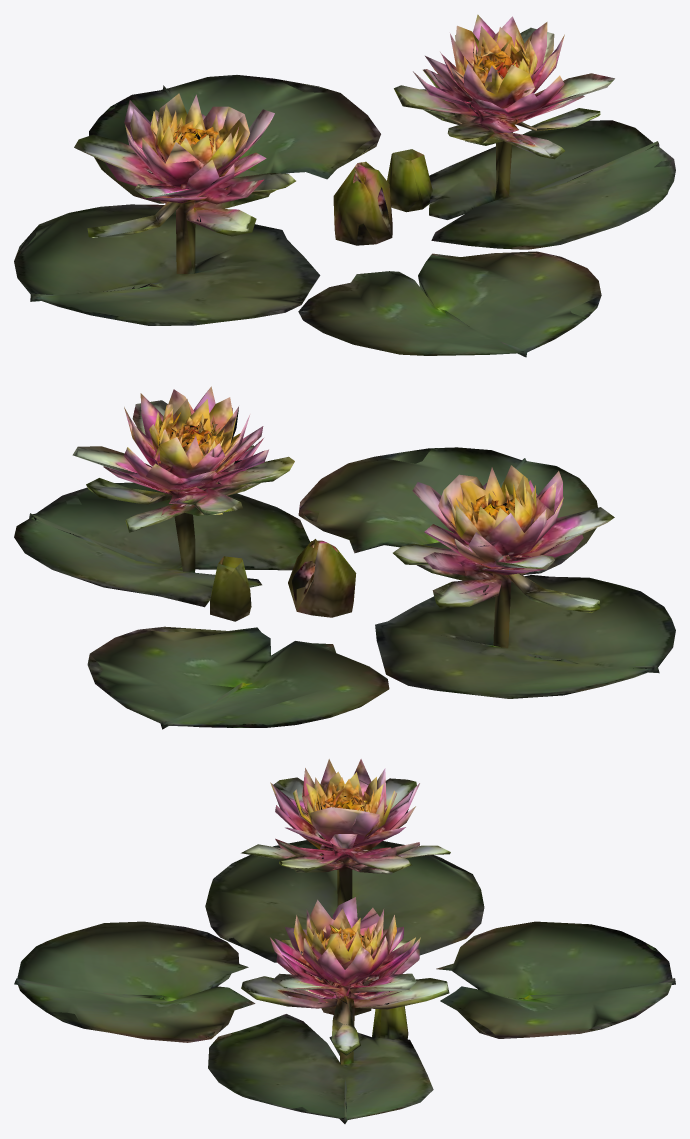
Rendered from plant_lily_a.glb.
3 views of the same model, one above another, from view 1: azimuth 30°, elevation 25°; view 2: azimuth 150°, elevation 25°; view 3: azimuth 270°, elevation 25° (orthographic). The views are drawn at different scales.
Visible parts, largest first — view 1: lo; view 2: lo; view 3: lo.
Part boxes in pixels (x1,y1,x2,y2): lo: (14,14,675,357); lo: (14,386,675,729); lo: (14,759,675,1123).
Bounding box in the file's own units: 1.9 × 0.5012 × 1.9.
1 material, 1 textured.
